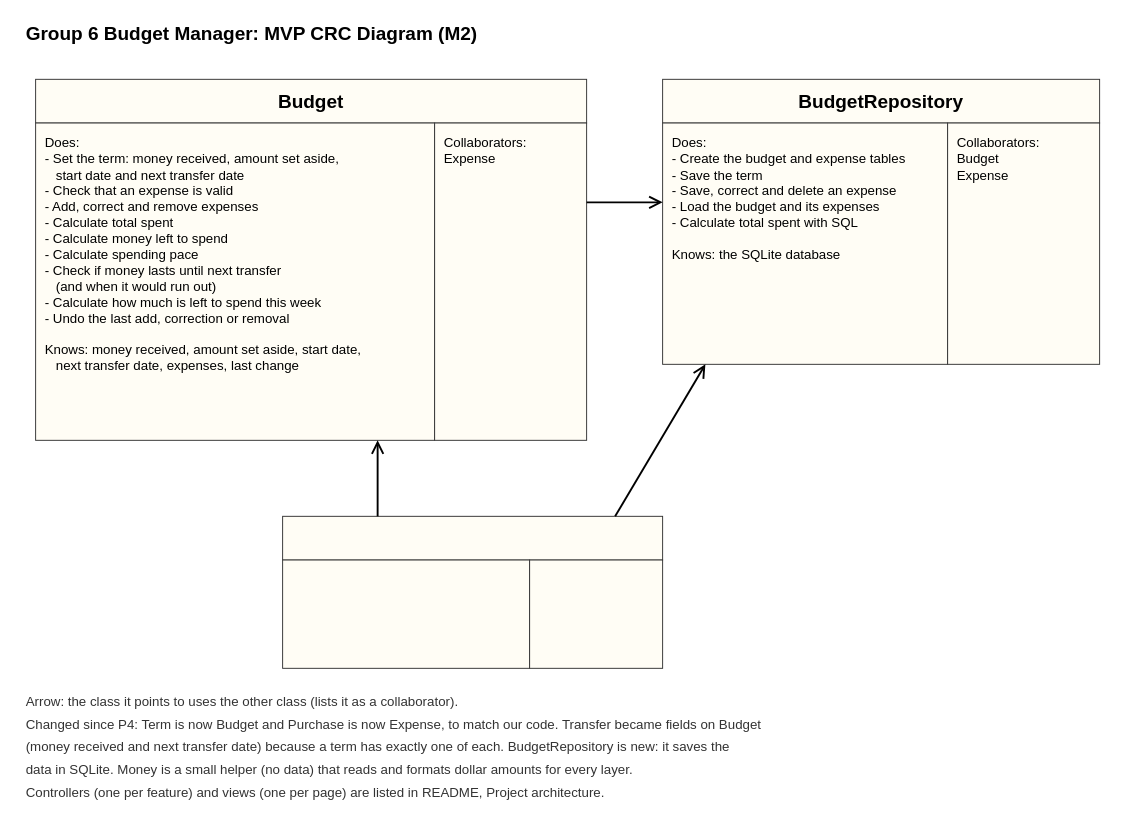
The diagram is 1134 pixels wide and 819 high, and some of its shapes have lost their labels. Here are the shapes that lost their labels. From the top down, the centre of each, then its label:
point (472, 537): Expense
point (406, 613): Does: - Hold one purchase Knows: id, amount, date, description
point (596, 613): Collaborators: (none)
